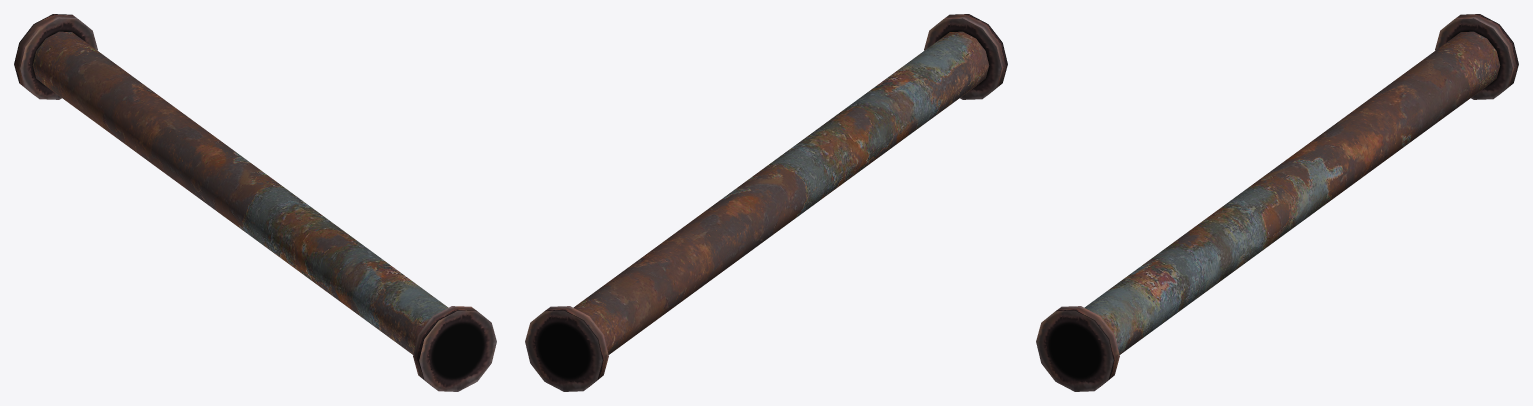
Rendered from pipe01_200cm.fbx.
3 renders of one model, left to right at view 1: azimuth 30°, elevation 25°; view 2: azimuth 150°, elevation 25°; view 3: azimuth 330°, elevation 25°, orthographic.
Parts seen in each view (by area): view 1: pipe01_200cm; view 2: pipe01_200cm; view 3: pipe01_200cm.
Part boxes in pixels (<box>): pipe01_200cm: <box>14,14,496,391</box>; pipe01_200cm: <box>525,14,1007,391</box>; pipe01_200cm: <box>1036,14,1518,391</box>.
Size of the model in its own units: 22.2 by 22.2 by 200.
